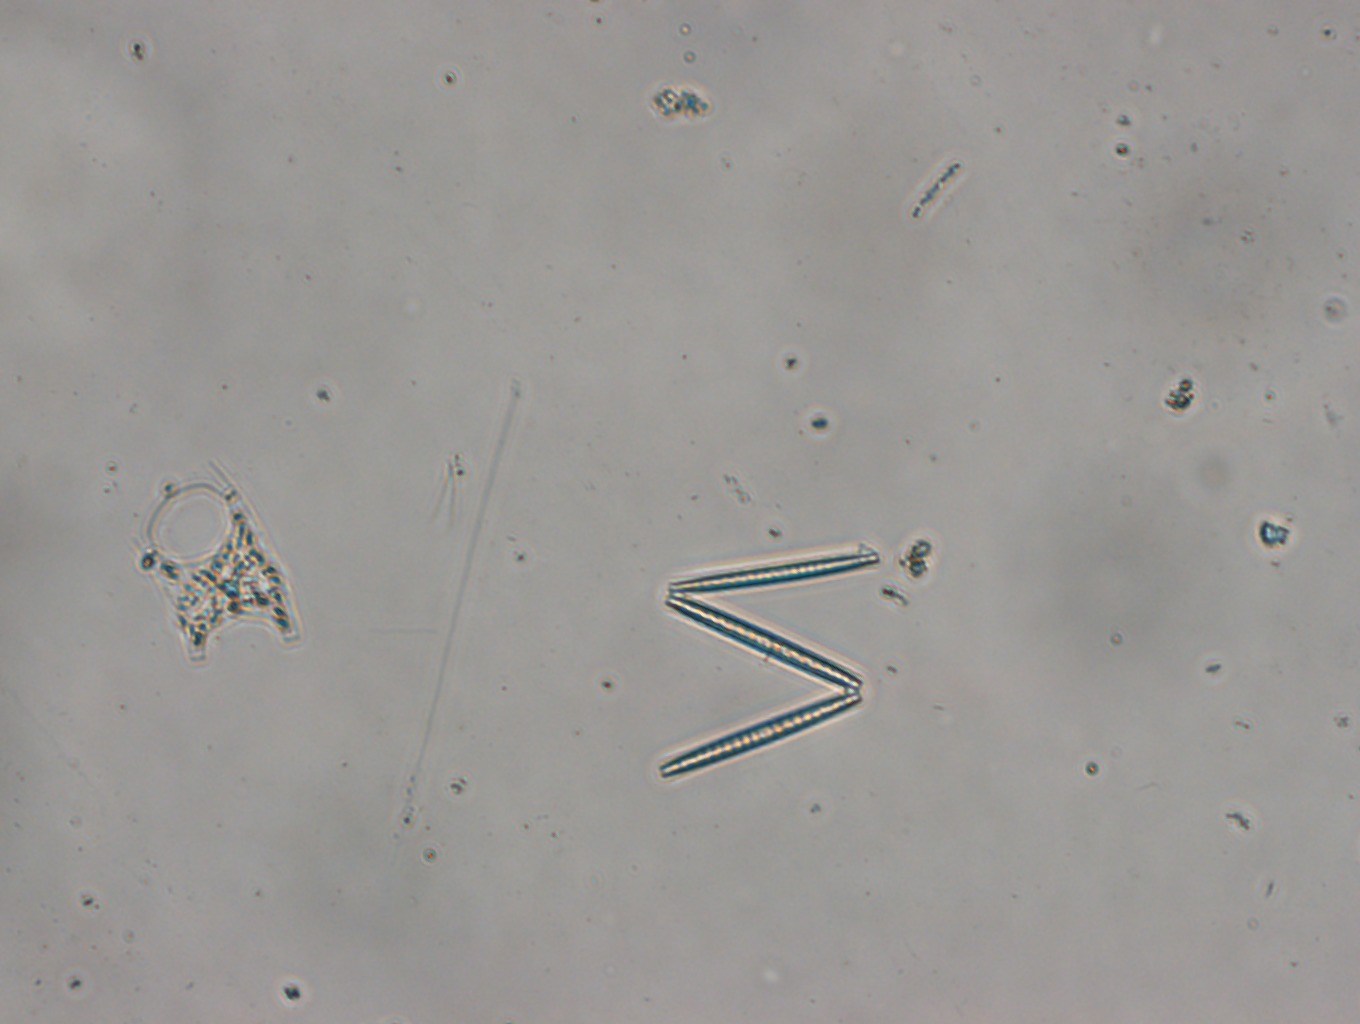thalassionema nitzschioides: (654, 535, 885, 782)
